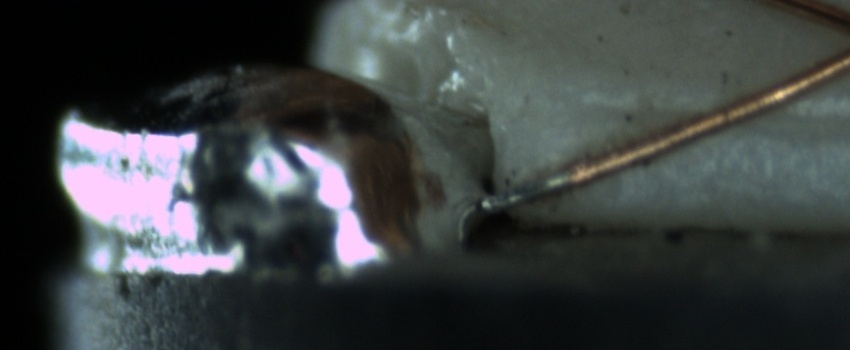CL: (832, 9, 850, 65)
DL: (567, 80, 847, 150)
TS: (482, 172, 568, 209)
TTCW: (481, 159, 583, 213)
